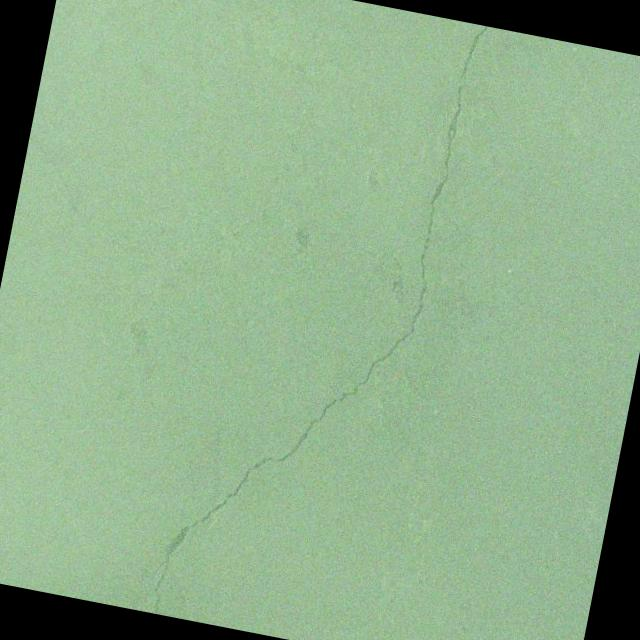crack: (130, 0, 489, 640)
